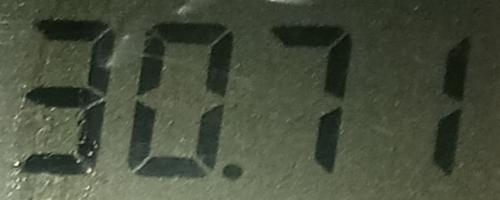.: (220, 162, 246, 186)
